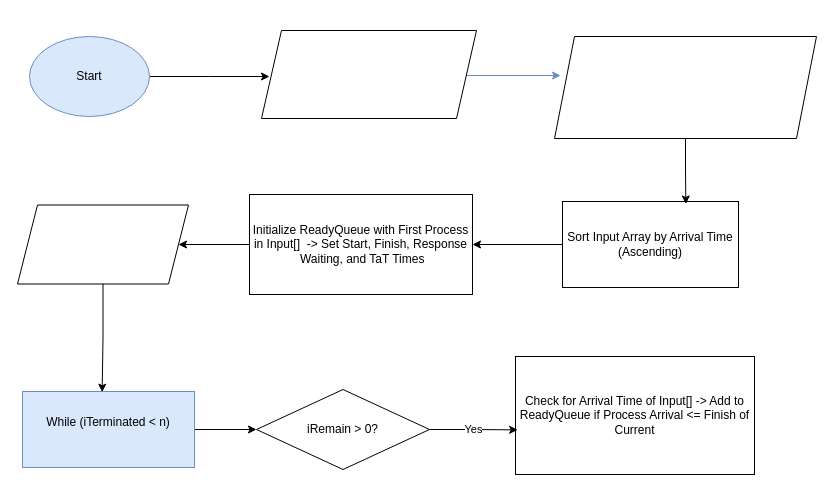
The diagram is 834 pixels wide and 492 high, and some of its shapes have lost their labels. The shapes that lost their labels are listed below. From the top down, each one's centre as x and y in pixels, then its label:
At (x=368, y=74): "Input Number of Processes (n) -> Store in iNumberOfProcess".
At (x=685, y=87): "Input Process Details (PID, Arrival Time, Burst Time) -> Store in Array Input[]".
At (x=102, y=244): "Print Ready Queue".
